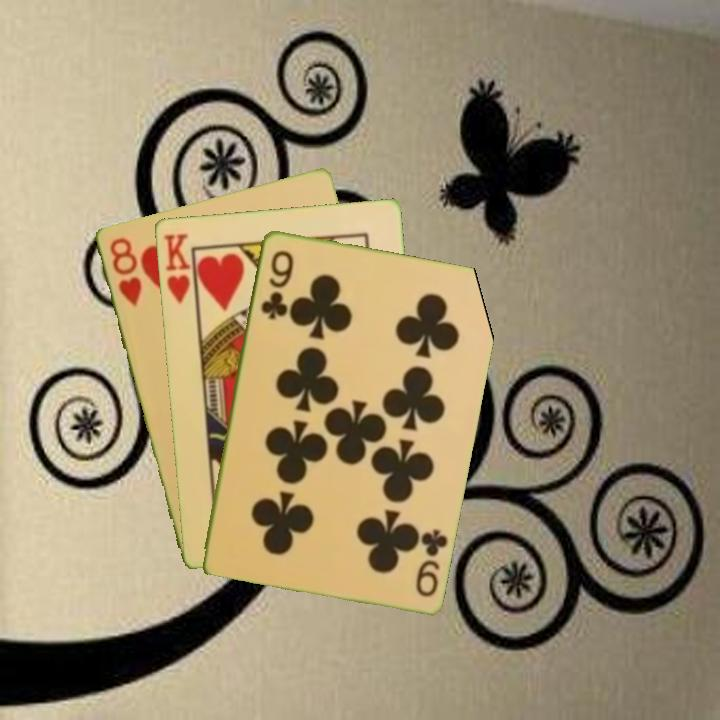8h: (105, 234, 144, 309)
9c: (257, 246, 296, 322), (412, 524, 450, 600)
Kh: (160, 229, 199, 310)
